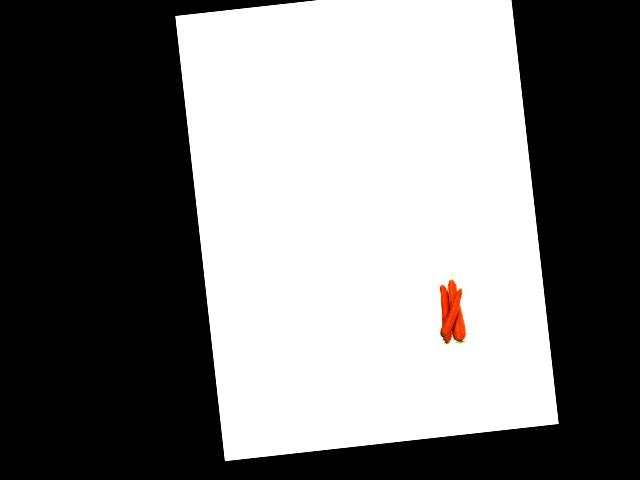carrot: (435, 282, 455, 348)
